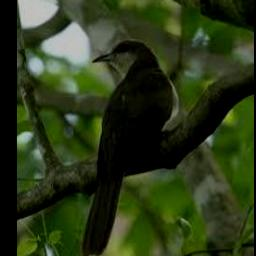Cuckoo: (82, 39, 179, 256)
